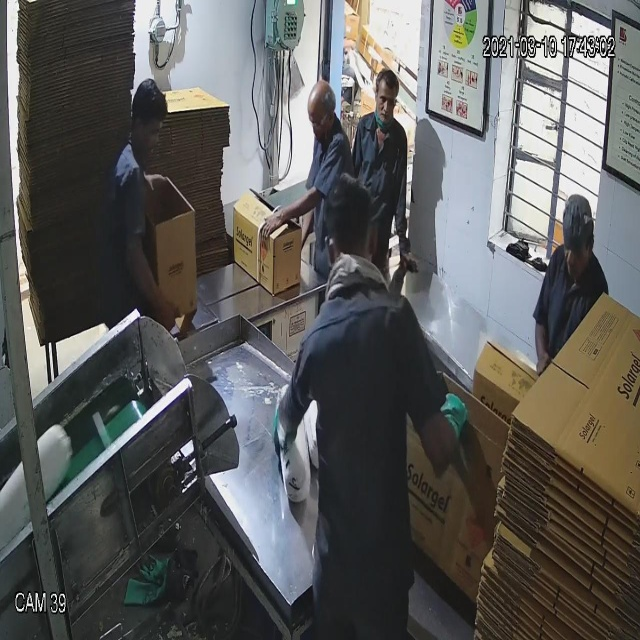Sin_guantes: (120, 220, 177, 363), (258, 196, 320, 244)
